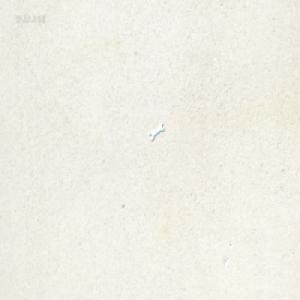Wrench: (149, 122, 165, 140)
